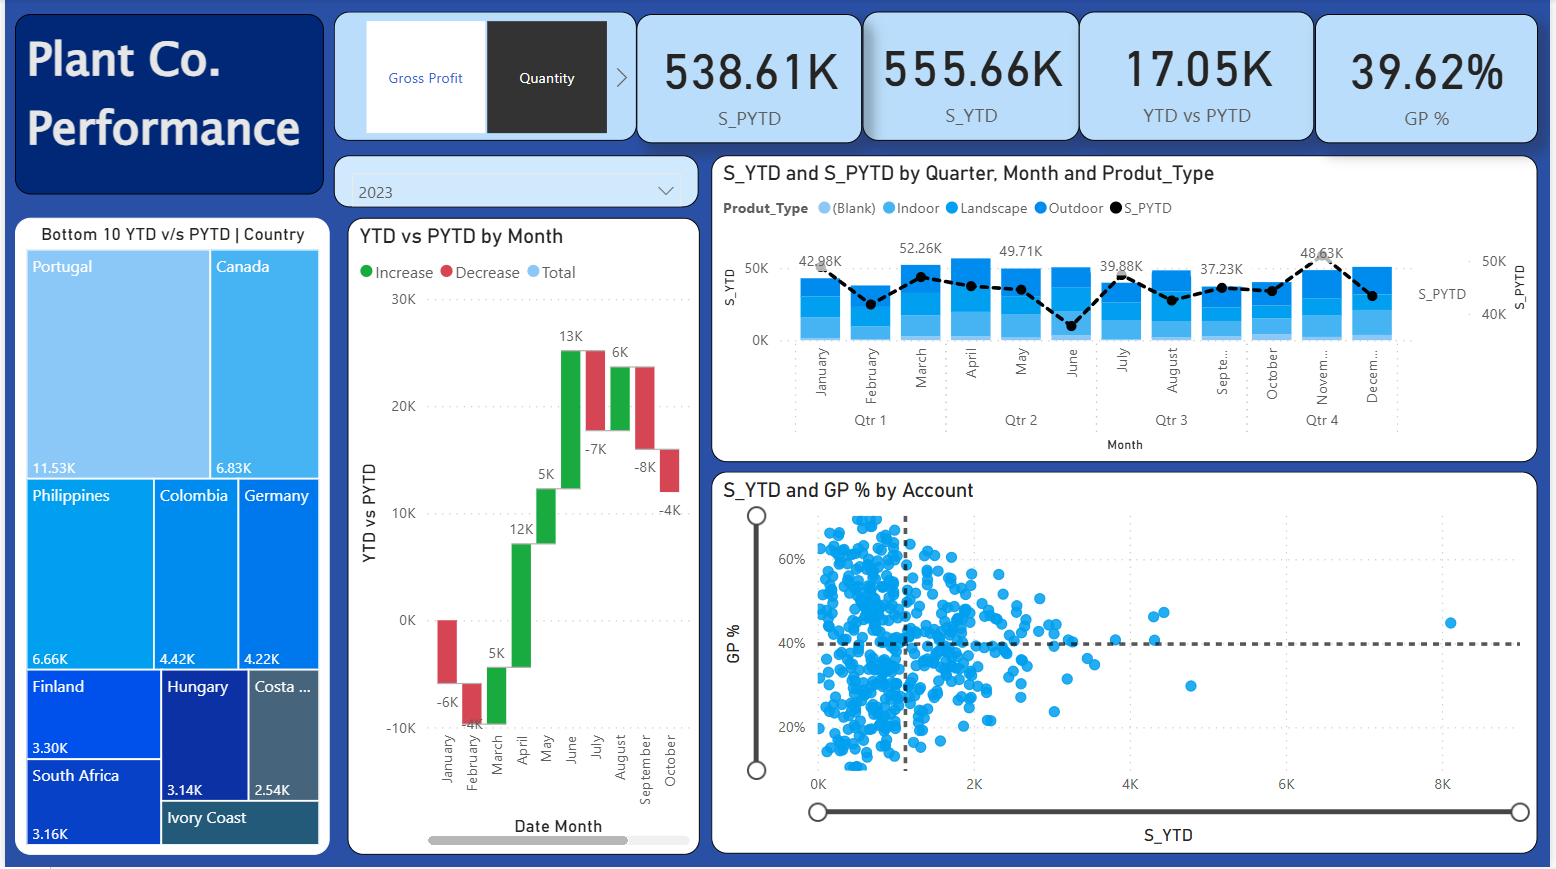

This screenshot's page, from the dashboard's own definition file:
{"tool":"powerbi","page":{"name":"Page 1","canvas":[1280,720],"ordinal":0},"visuals":[{"type":"card","fields":{"Values":["_Measures.S_YTD"]},"box":[710.4,10.9,179.7,107.3],"z":0},{"type":"card","fields":{"Values":["_Measures.S_PYTD"]},"box":[523.4,12.1,186.9,107.3],"z":1000},{"type":"card","fields":{"Values":["_Measures.YTD vs PYTD"]},"box":[890.1,10.9,195.4,107.3],"z":2000},{"type":"slicer","fields":{"Values":["Slc_Values.Values"]},"box":[272.6,10.9,250.9,107.3],"z":3000},{"type":"slicer","fields":{"Values":["Dim_Date.Date.Variation.Date Hierarchy.Year"]},"box":[272.6,129,302.7,43.4],"z":4000},{"type":"treemap","title":"Bottom 10 YTD v/s PYTD | Country","fields":{"Values":["_Measures.YTD vs PYTD"],"Group":["Dim_Account.country"]},"box":[8.4,180.9,260.5,528.2],"z":5000},{"type":"waterfallChart","fields":{"Y":["_Measures.YTD vs PYTD"],"Category":["Dim_Date.Date.Variation.Date Hierarchy.Month","Dim_Account.country","Dim_Product.Produt_Type","Dim_Product.Product_Name_id"]},"box":[283.4,180.9,291.9,528.2],"z":6000},{"type":"lineStackedColumnComboChart","fields":{"Y":["_Measures.S_YTD"],"Category":["Dim_Date.Date.Variation.Date Hierarchy.Quarter","Dim_Date.Date.Variation.Date Hierarchy.Month"],"Y2":["_Measures.S_PYTD"],"Series":["Dim_Product.Produt_Type"]},"box":[584.9,129,685,254.5],"z":7000},{"type":"card","fields":{"Values":["_Measures.GP %"]},"box":[1085.4,12.1,184.5,107.3],"z":8000},{"type":"scatterChart","fields":{"Y":["_Measures.GP %"],"X":["_Measures.S_YTD"],"Category":["Dim_Account.Account"]},"box":[584.9,392,685,317.2],"z":9000},{"type":"textbox","box":[8.4,12.1,255.7,149.5],"z":10000}]}

Visuals, with their boxes in screenshot pixels (x1, y1, x2, y2), scaled from the page's 1280x720 canvas onto the 1556x869 screenshot:
card - _Measures.S_YTD: <box>864,13,1082,143</box>
card - _Measures.S_PYTD: <box>636,15,863,144</box>
card - _Measures.YTD vs PYTD: <box>1082,13,1320,143</box>
slicer - Slc_Values.Values: <box>331,13,636,143</box>
slicer - Dim_Date.Date.Variation.Date Hierarchy.Year: <box>331,156,699,208</box>
"Bottom 10 YTD v/s PYTD | Country" treemap: <box>10,218,327,856</box>
waterfallChart - _Measures.YTD vs PYTD x Dim_Date.Date.Variation.Date Hierarchy.Month: <box>345,218,699,856</box>
lineStackedColumnComboChart - _Measures.S_YTD x Dim_Date.Date.Variation.Date Hierarchy.Quarter: <box>711,156,1544,463</box>
card - _Measures.GP %: <box>1319,15,1544,144</box>
scatterChart - _Measures.GP % x _Measures.S_YTD: <box>711,473,1544,856</box>
textbox: <box>10,15,321,195</box>
